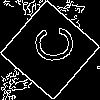C: (25, 25, 74, 65)
